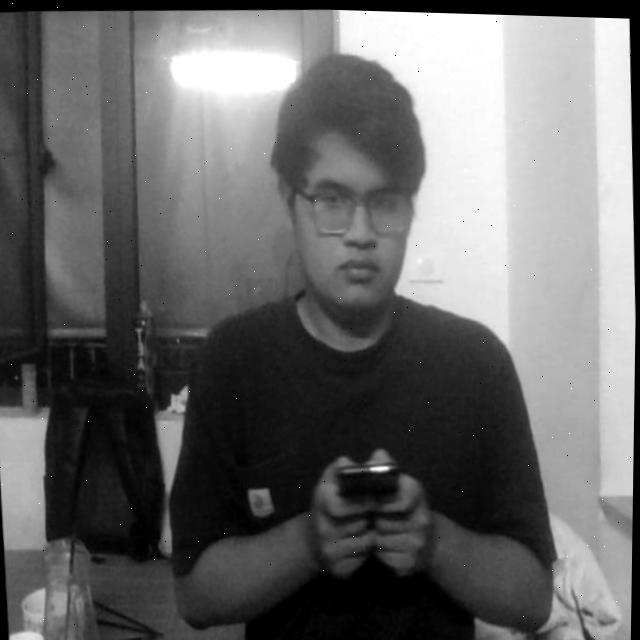phone: (323, 428, 413, 531)
